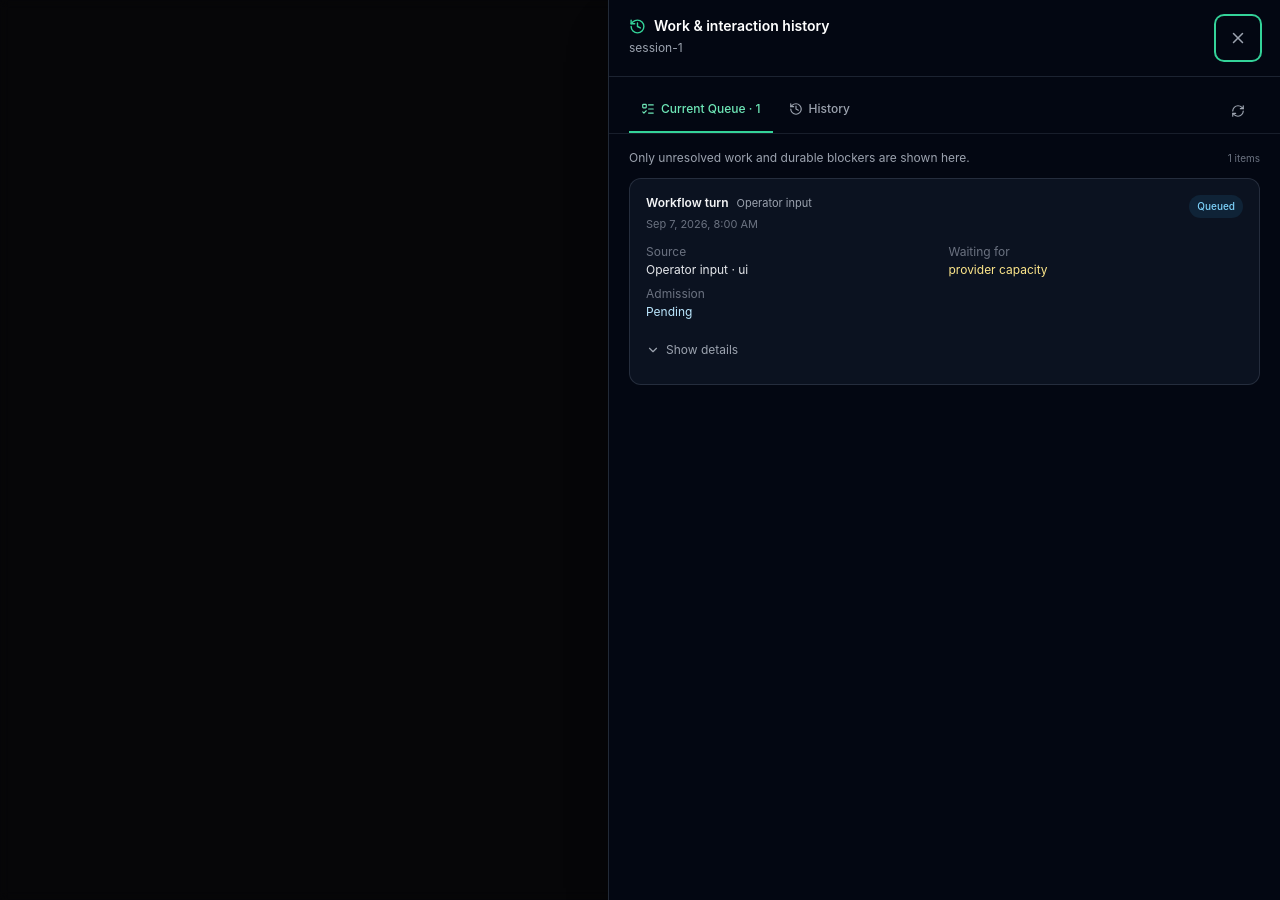
InteractionHistoryDrawer › loads Current Queue immediately and History only after the operator opens it
The image size is (1280, 900).
Expected: the text "provider capacity" is shown, [948,262,1048,277]
What coordinates should you click on to do the following:
click the tab "History"
I would click on:
 (819, 111)
Its box is [777,89,862,133].
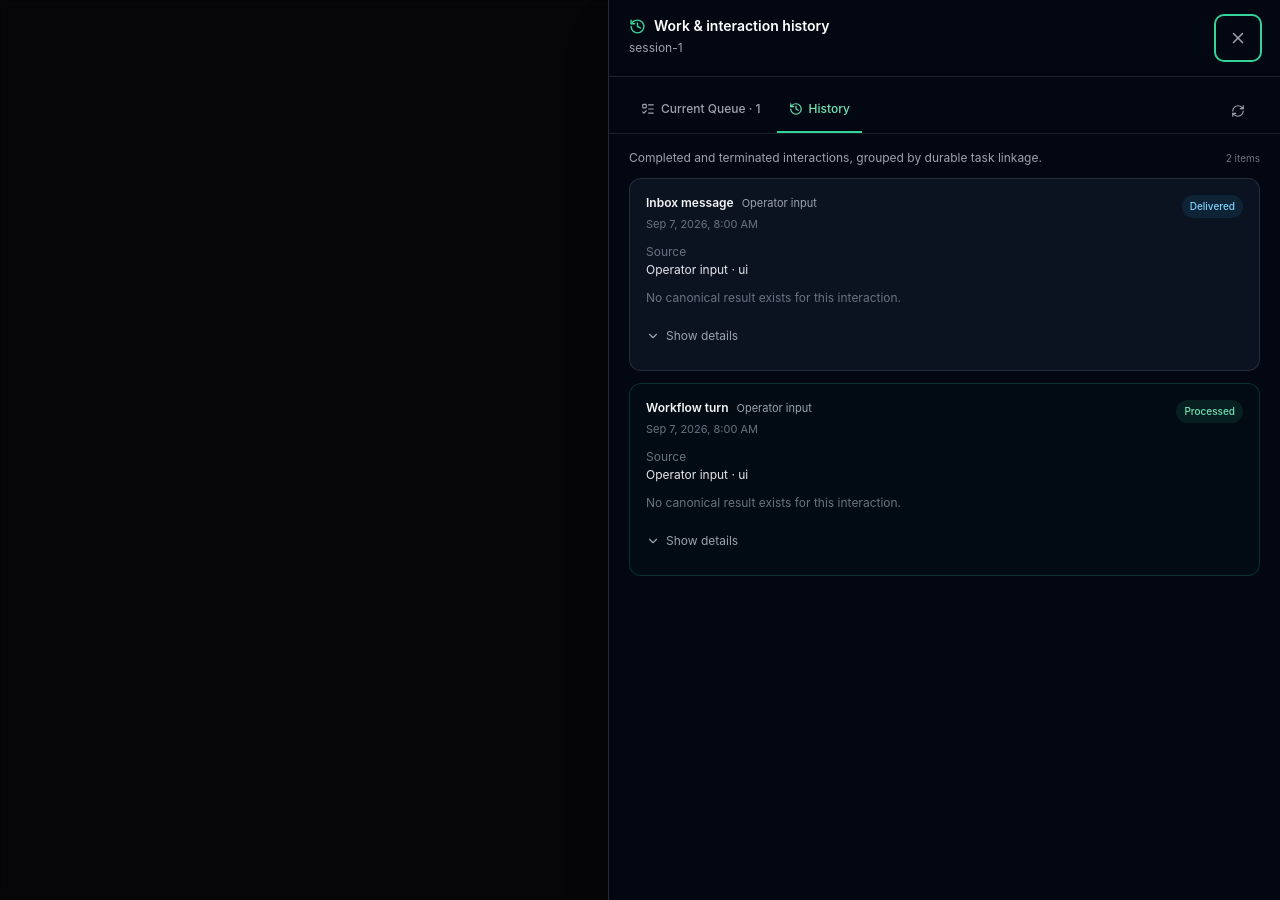
Expected: the text "Inbox message" is shown, [646,195,734,211]
Expected: the text "Processed" is shown, [1176,400,1243,423]
